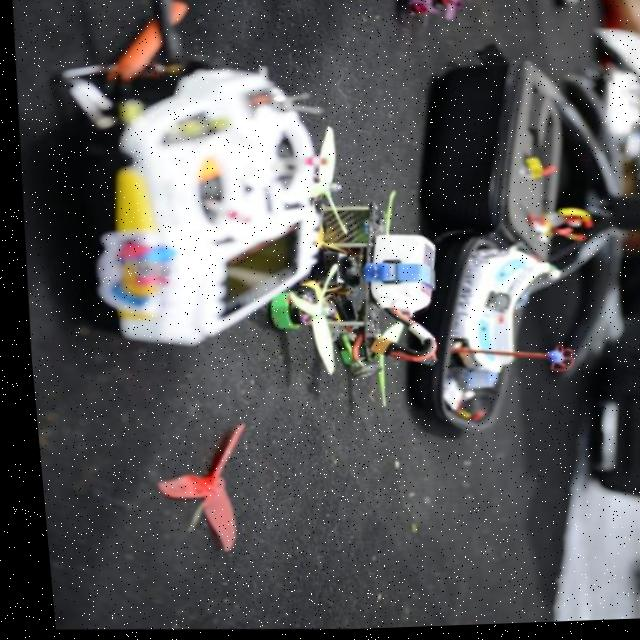drones: (209, 95, 466, 438)
